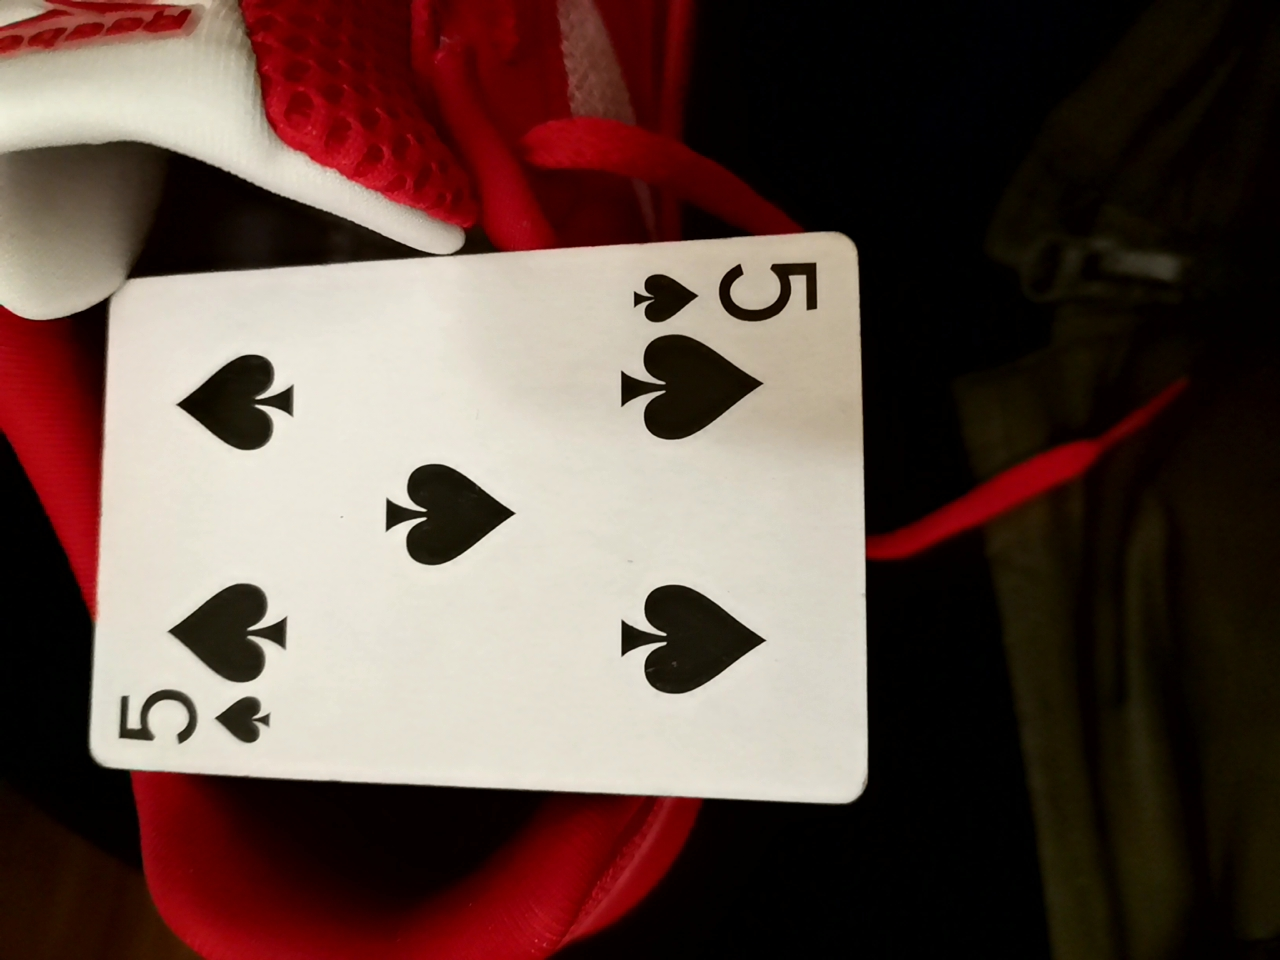ht 5: (66, 244, 885, 803)
